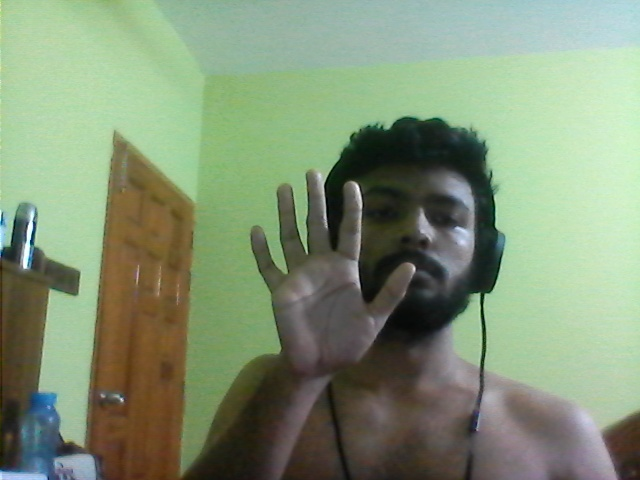Hello: (246, 167, 418, 378)
